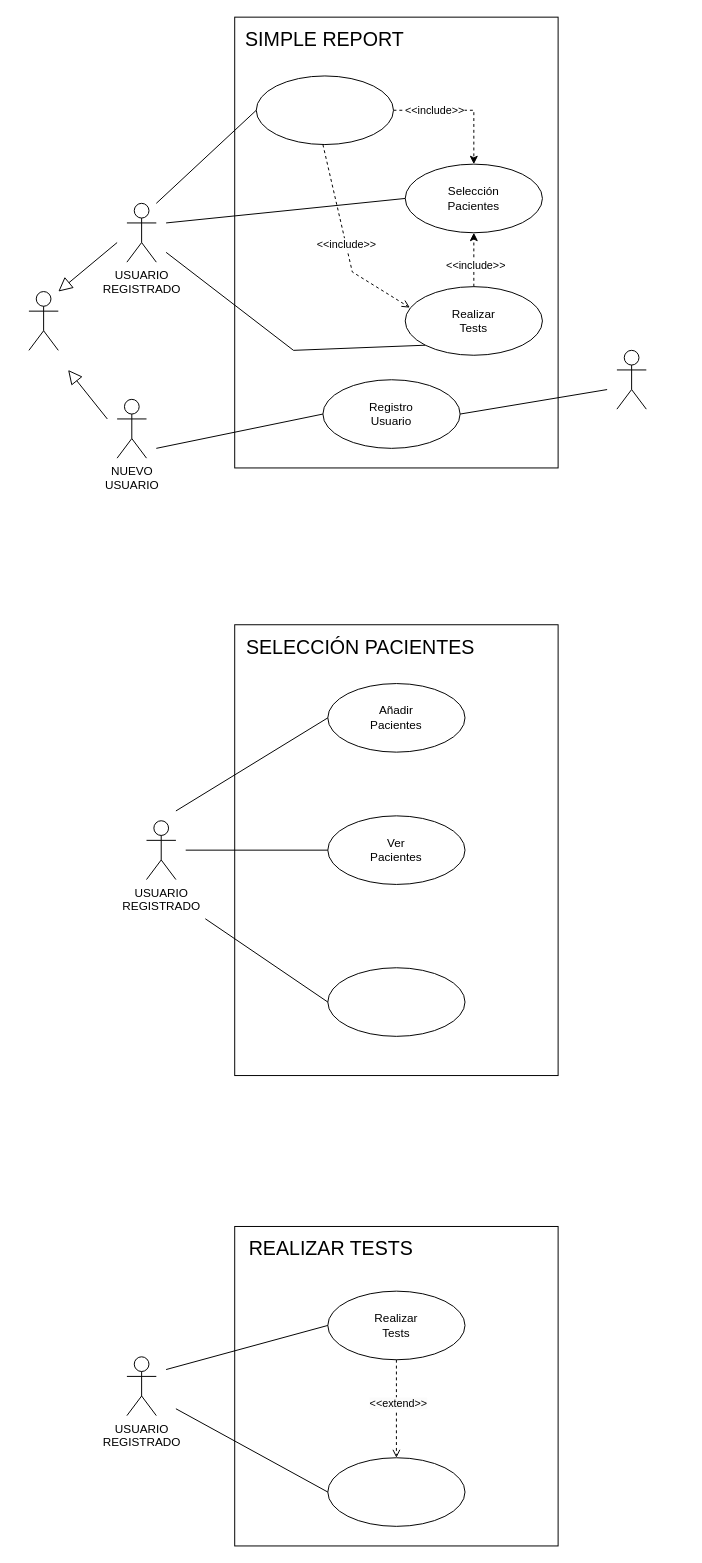
Some shapes in this 702 by 1563 pixel diagram are drawn without their labels. The shapes that lost their labels are listed below. From the top down, each one's box as (x1, y1, x2, y2) in pixels, then its label:
(255, 75, 393, 145): Selección Centro
(28, 291, 58, 350): USUARIO
(616, 349, 646, 409): AUTENTIFICACIÓN
(327, 967, 465, 1036): Editar Pacientes
(327, 1457, 465, 1526): Ver Resultados Tests
